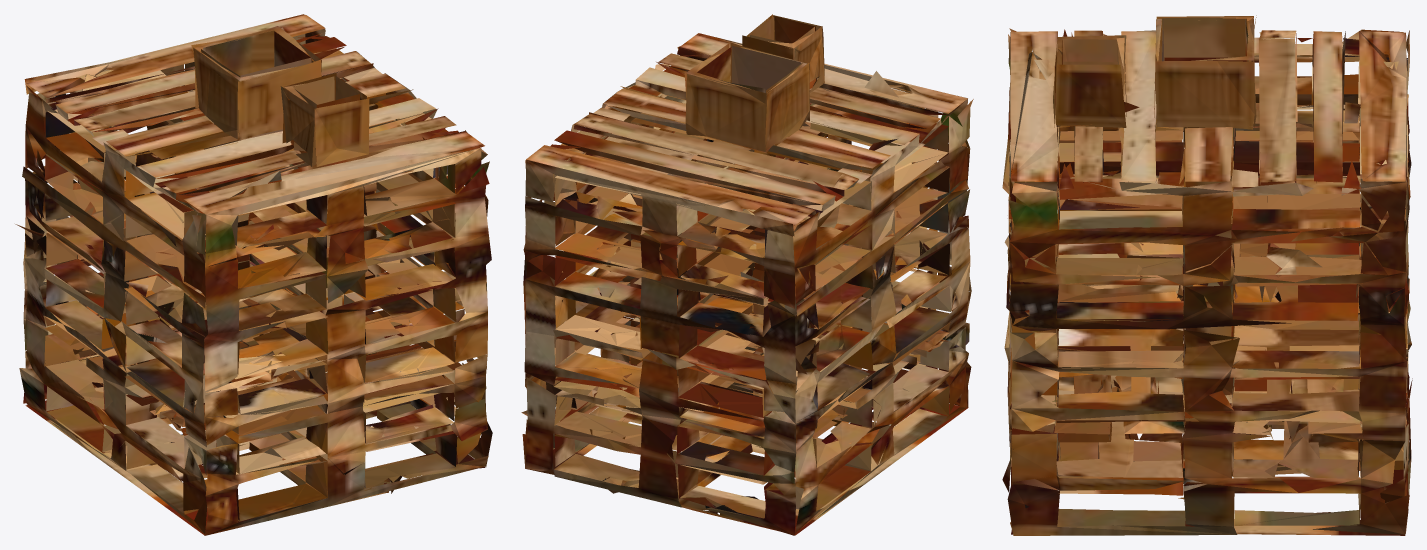
The model's file is pallet_stack.glb.
The picture shows the model from 3 angles, left to right: view 1: azimuth 30°, elevation 25°; view 2: azimuth 150°, elevation 25°; view 3: azimuth 270°, elevation 25°; orthographic projection. The views are drawn at different scales.
Parts seen in each view (by area): view 1: obj.obj; view 2: obj.obj; view 3: obj.obj.
Part boxes in pixels (bbox=[...]): obj.obj: bbox=[15, 14, 492, 535]; obj.obj: bbox=[521, 14, 973, 535]; obj.obj: bbox=[1002, 15, 1412, 535].
Size of the model in its own units: 1.31 by 1.6 by 1.37.
1 material, 1 textured.
